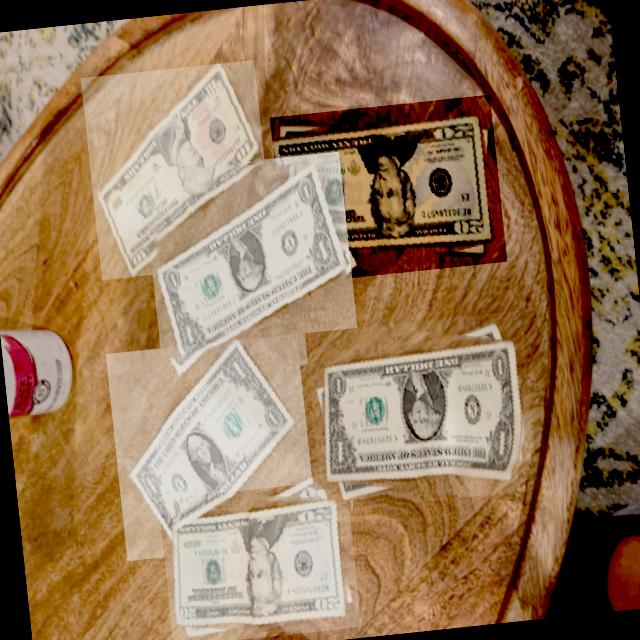one: (142, 151, 360, 379), (105, 334, 318, 561), (305, 311, 539, 512)
ten: (81, 60, 275, 280)
twenty: (270, 94, 507, 284), (158, 479, 361, 640)
